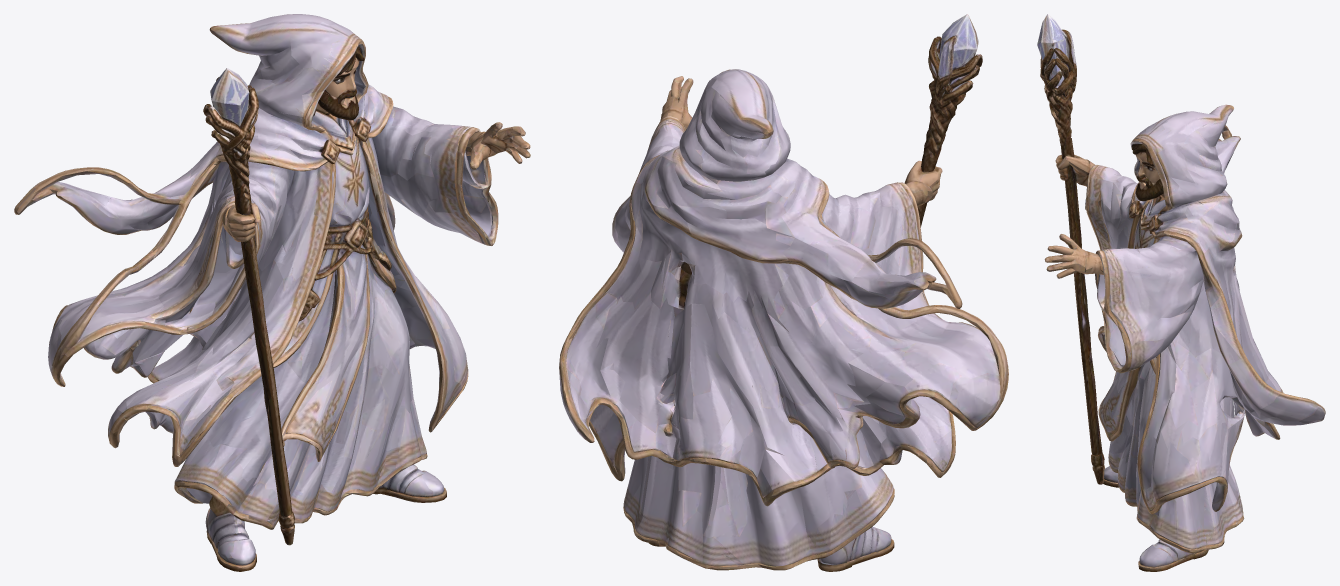
The model's file is mage_white.glb.
3 views of the same model, side by side, from view 1: azimuth 30°, elevation 25°; view 2: azimuth 150°, elevation 25°; view 3: azimuth 270°, elevation 25° (orthographic). The views are drawn at different scales.
Bounding box in the file's own units: 1.56 × 1.9 × 1.11.
1 material, 1 textured.
